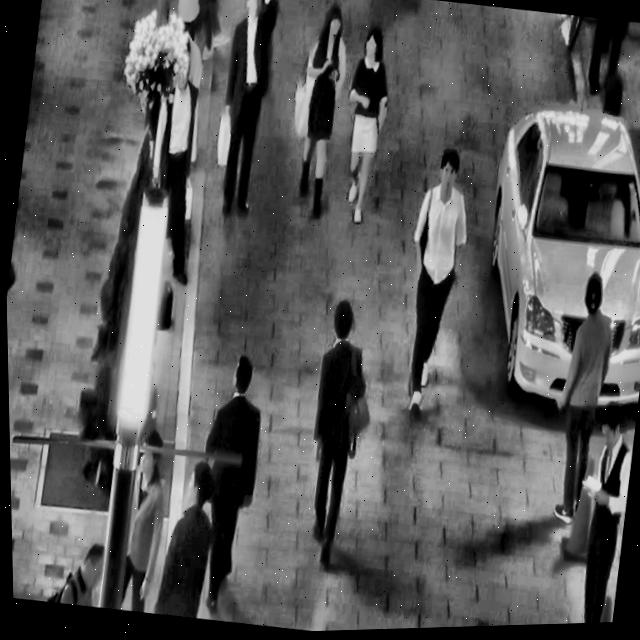light_vehicle: (458, 82, 640, 430)
